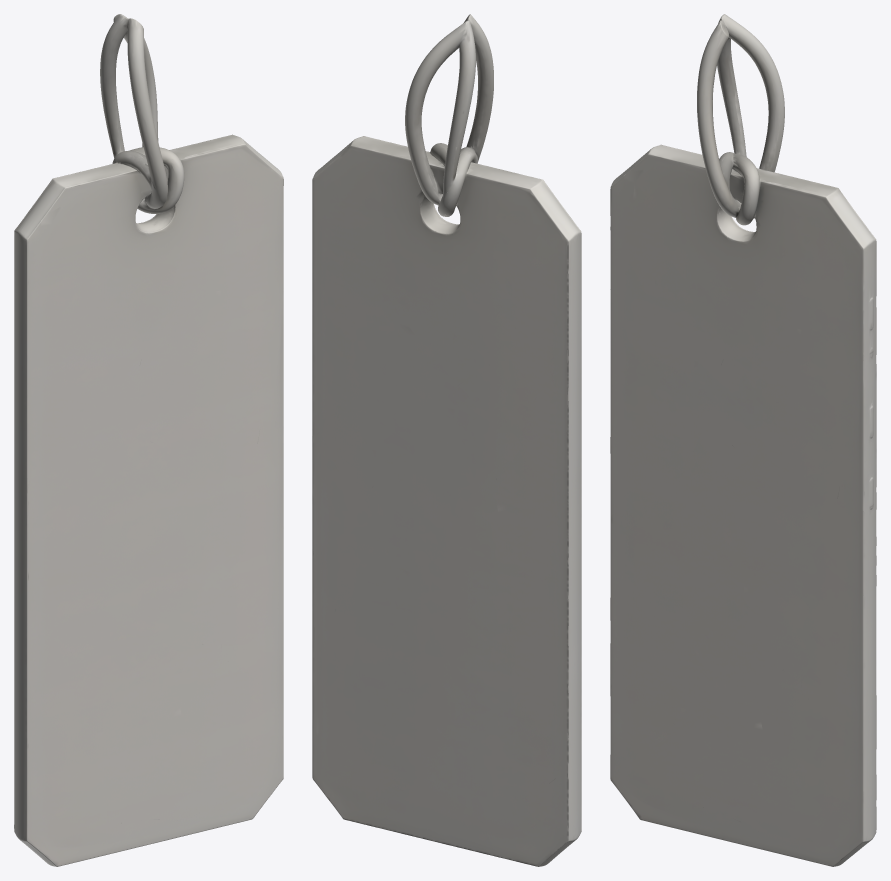
The picture shows the model from 3 angles, left to right: view 1: azimuth 30°, elevation 25°; view 2: azimuth 150°, elevation 25°; view 3: azimuth 330°, elevation 25°; orthographic projection.
Visible parts, largest first — view 1: node_0; view 2: node_0; view 3: node_0.
Boxes of the visible parts, left/top/right/bottom form: node_0: left=14, top=14, right=283, bottom=866; node_0: left=312, top=14, right=581, bottom=866; node_0: left=610, top=14, right=876, bottom=866.
Bounding box in the file's own units: 0.3831 × 1.16 × 0.1131.
Materials: 1 (1 with a texture image).
